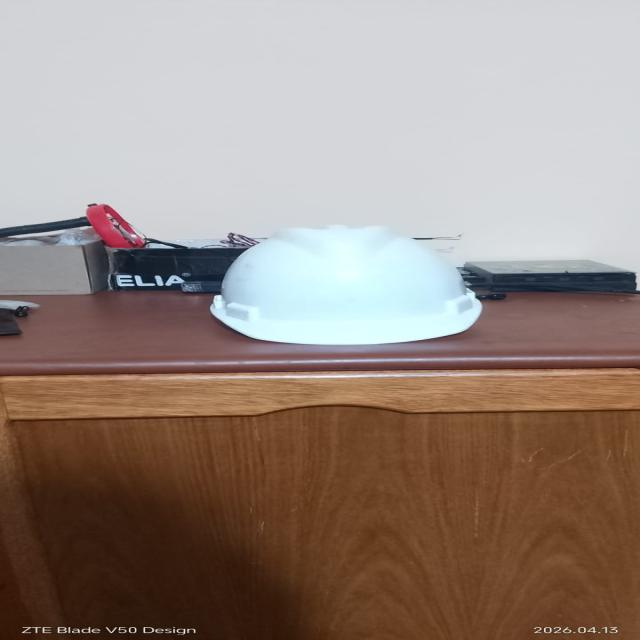casco: (198, 220, 505, 358)
